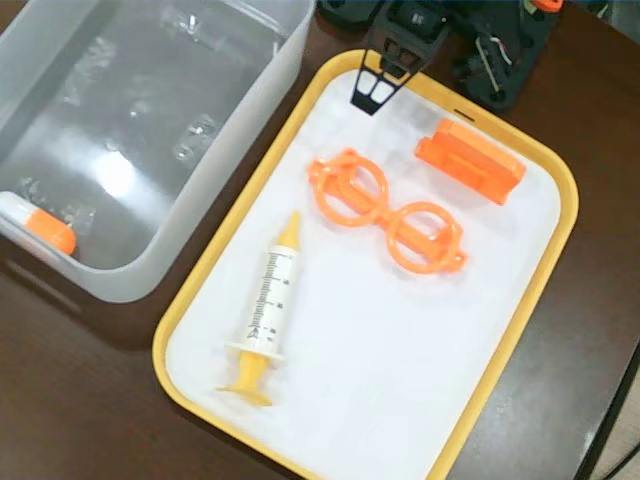pill: (0, 188, 78, 263)
syringe: (213, 211, 303, 405)
